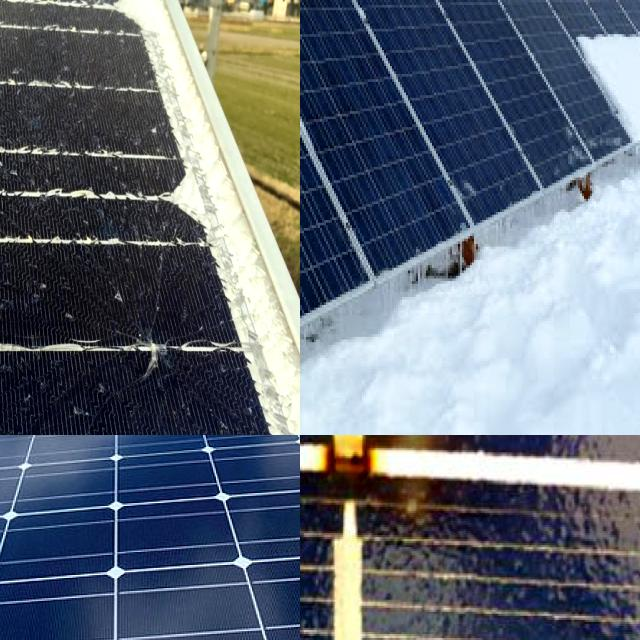crack: (0, 471, 300, 640), (0, 444, 131, 605), (236, 477, 300, 640), (0, 435, 168, 496), (120, 435, 280, 478), (70, 435, 216, 476)
hotspot: (89, 284, 184, 414)
panel: (568, 0, 640, 139), (444, 134, 486, 232)
shadow: (303, 435, 452, 545)
